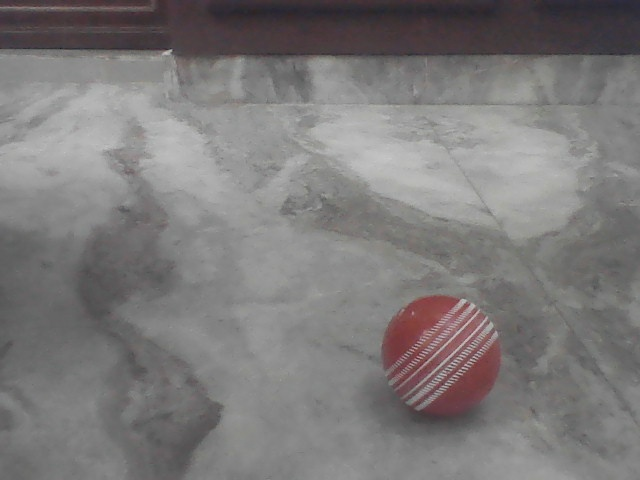cricket_ball: (375, 286, 505, 425)
